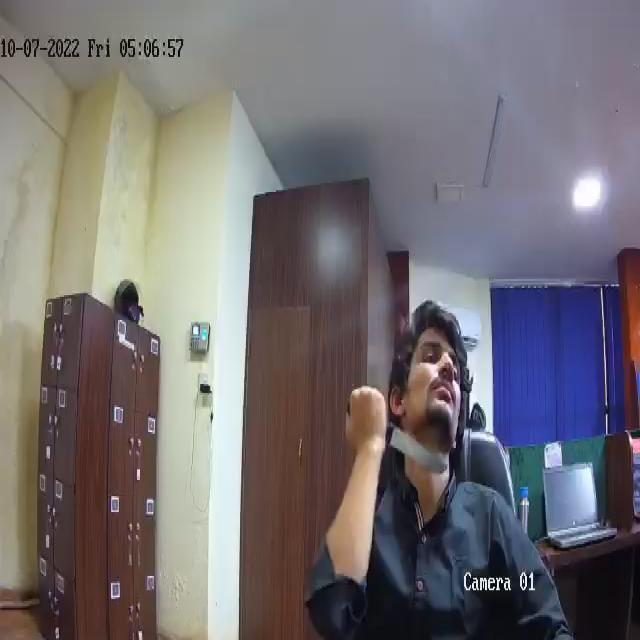Knife: (385, 423, 447, 482)
